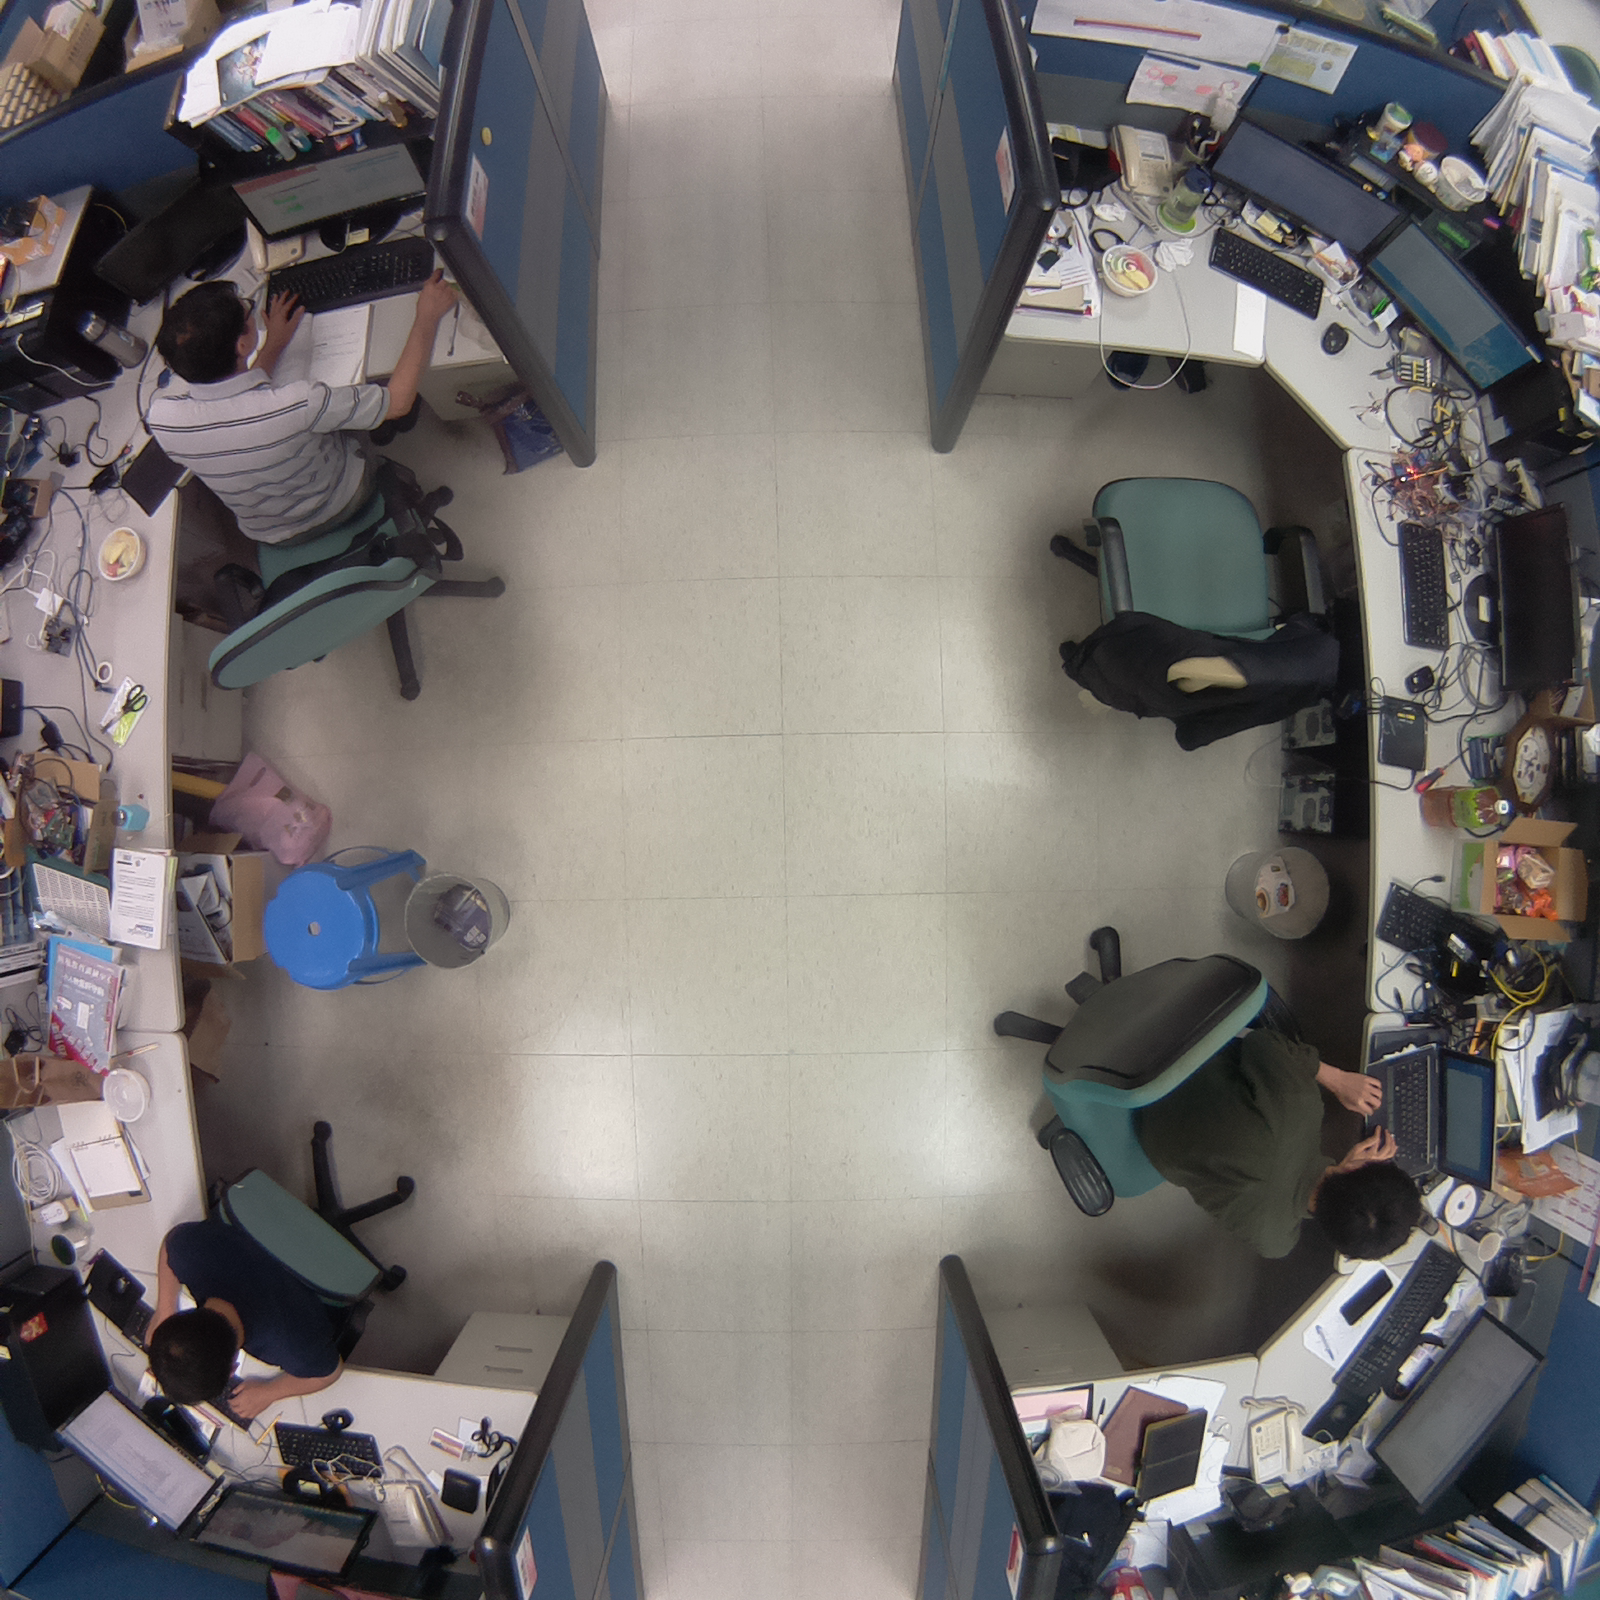chair: (1019, 440, 1368, 763)
head: (1306, 1153, 1425, 1261), (155, 280, 268, 387), (144, 1302, 244, 1408)
sitting: (139, 277, 524, 722), (981, 904, 1425, 1277), (127, 1101, 437, 1431)
